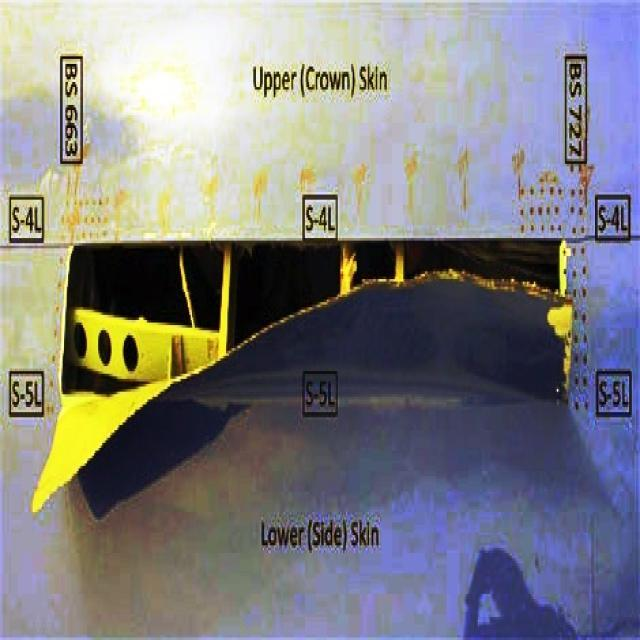crack: (32, 242, 577, 519)
